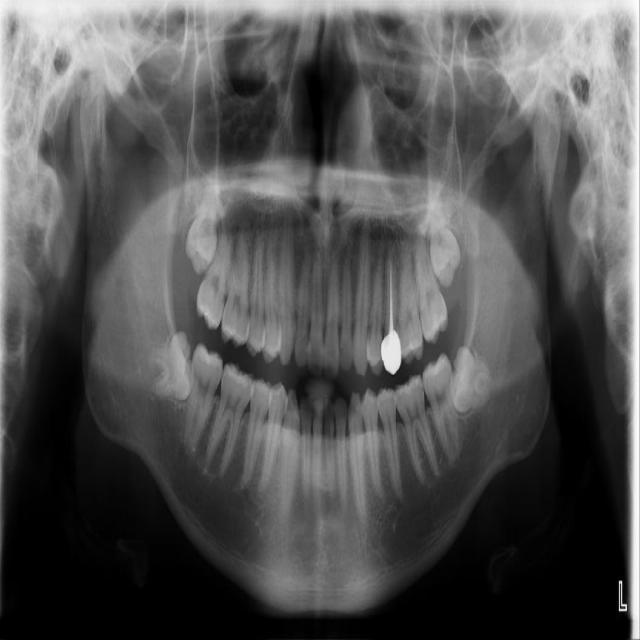3M ESPE Implant: (185, 207, 217, 274)
52: (381, 340, 401, 375)
73: (382, 250, 405, 340), (584, 564, 592, 584)
BioHorizons Implant: (411, 232, 451, 346)
BioLife Implant: (430, 220, 461, 288)
Biomet 3i Implant: (446, 344, 492, 413)
Blue Sky Bio Implant: (418, 351, 465, 467)
Caries: (192, 209, 241, 331)
Implant: (181, 342, 226, 454)
Keystone Dental Implant: (147, 329, 197, 403)
